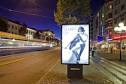board: (59, 22, 92, 81)
